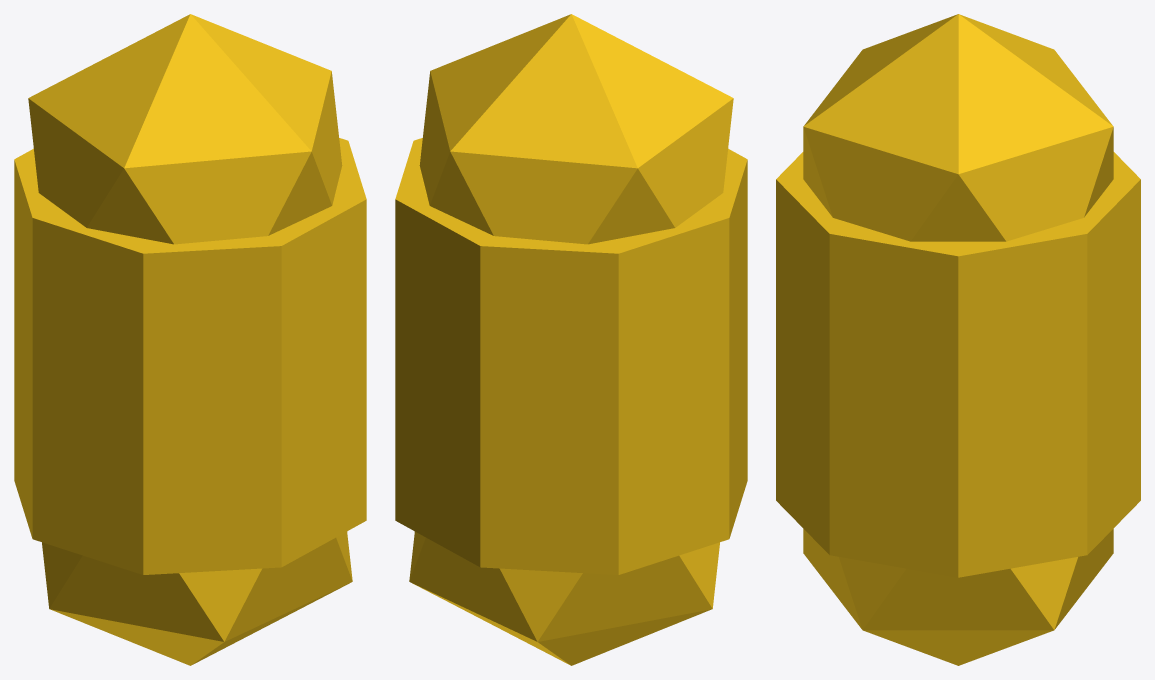
Rendered from capsule_yellow.glb.
The picture shows the model from 3 angles, left to right: view 1: azimuth 30°, elevation 25°; view 2: azimuth 150°, elevation 25°; view 3: azimuth 270°, elevation 25°; orthographic projection.
Visible parts, largest first — view 1: capsule_yellow; view 2: capsule_yellow; view 3: capsule_yellow.
Boxes of the visible parts, bbox=[...] form: capsule_yellow: bbox=[14, 14, 366, 665]; capsule_yellow: bbox=[395, 14, 747, 665]; capsule_yellow: bbox=[776, 14, 1140, 665].
Size of the model in its own units: 0.072 by 0.142 by 0.072.
